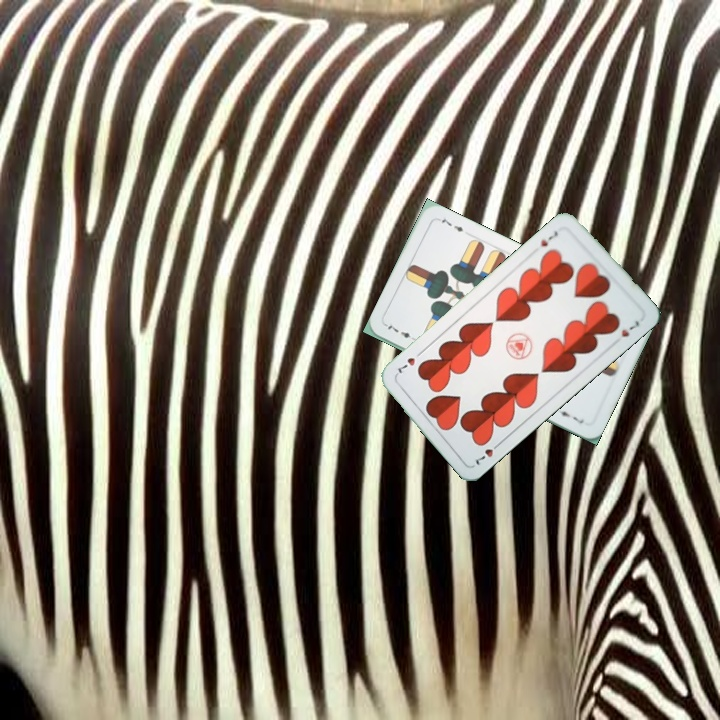E7: (382, 320, 420, 344)
H7: (471, 437, 504, 468), (537, 227, 562, 249)
